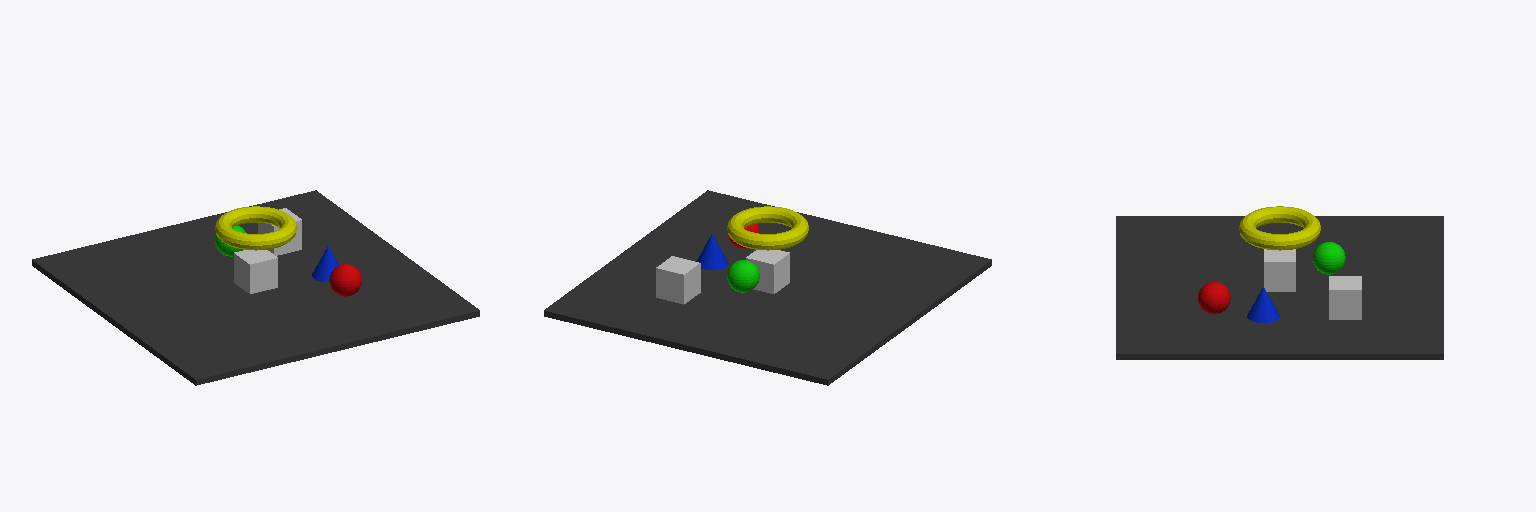
File: someobjects.obj
The picture shows the model from 3 angles: view 1: azimuth 30°, elevation 25°; view 2: azimuth 150°, elevation 25°; view 3: azimuth 270°, elevation 25°; orthographic projection.
Visible parts, largest first — view 1: Cube, Torus, Cube.002, Sphere, Cube.001; view 2: Cube, Torus, Cube.001, Cube.002, Sphere.001, Cone; view 3: Cube, Torus, Cube.001, Cube.002, Sphere.001, Sphere, Cone.
Boxes of the visible parts, x1=… form: Cube: x1=32, y1=190, x2=479, y2=385; Torus: x1=215, y1=206, x2=296, y2=250; Cube.002: x1=234, y1=250, x2=277, y2=293; Sphere: x1=329, y1=264, x2=361, y2=296; Cube.001: x1=258, y1=208, x2=301, y2=255; Cube: x1=544, y1=190, x2=991, y2=385; Torus: x1=727, y1=206, x2=808, y2=250; Cube.001: x1=656, y1=256, x2=700, y2=304; Cube.002: x1=746, y1=250, x2=789, y2=293; Sphere.001: x1=727, y1=260, x2=759, y2=292; Cone: x1=696, y1=234, x2=728, y2=269; Cube: x1=1116, y1=216, x2=1443, y2=359; Torus: x1=1239, y1=206, x2=1320, y2=250; Cube.001: x1=1329, y1=276, x2=1361, y2=319; Cube.002: x1=1264, y1=249, x2=1295, y2=291; Sphere.001: x1=1313, y1=242, x2=1345, y2=274; Sphere: x1=1198, y1=282, x2=1230, y2=313; Cone: x1=1247, y1=287, x2=1279, y2=322.
Size of the model in its own units: 20 by 4.7 by 20.